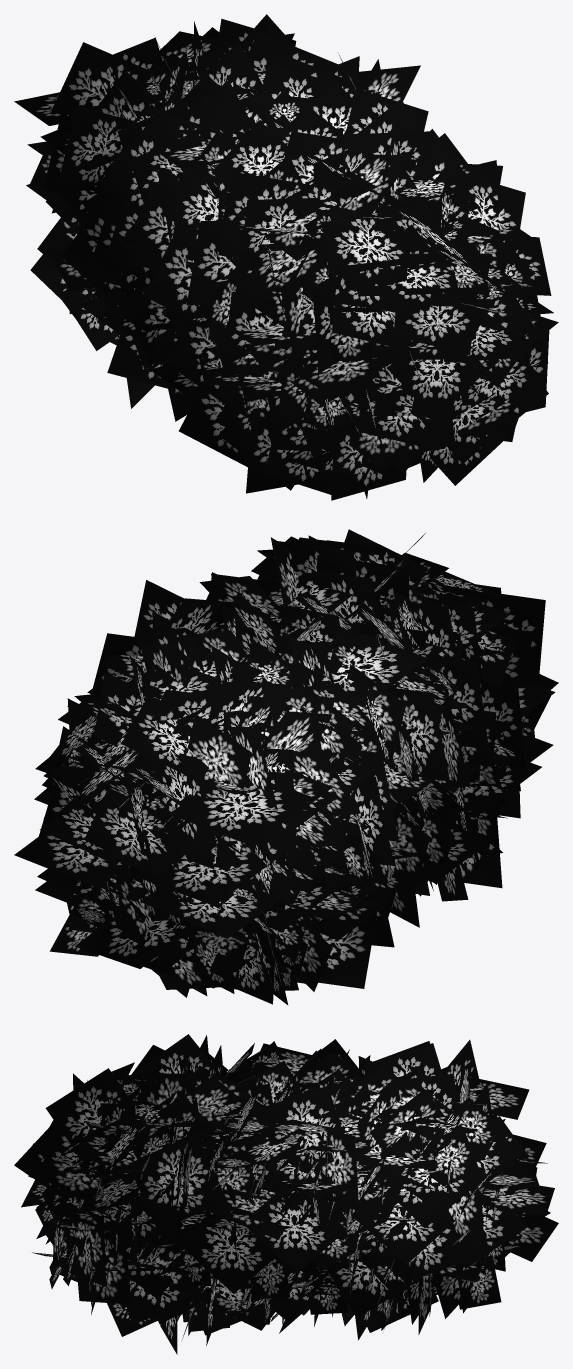
The model's file is SM_Bush_02.glb.
The picture shows the model from 3 angles, top to bottom: view 1: azimuth 30°, elevation 25°; view 2: azimuth 150°, elevation 25°; view 3: azimuth 270°, elevation 25°; orthographic projection. The views are drawn at different scales.
Parts seen in each view (by area): view 1: SM_Bush_02_LOD0; view 2: SM_Bush_02_LOD0; view 3: SM_Bush_02_LOD0.
Part boxes in pixels (x1,y1,x2,y2): SM_Bush_02_LOD0: (14,14,558,500); SM_Bush_02_LOD0: (14,529,558,1005); SM_Bush_02_LOD0: (14,1034,558,1354).
Bounding box in the file's own units: 2.99 × 2.88 × 5.15.
Materials: 1 (1 with a texture image).
